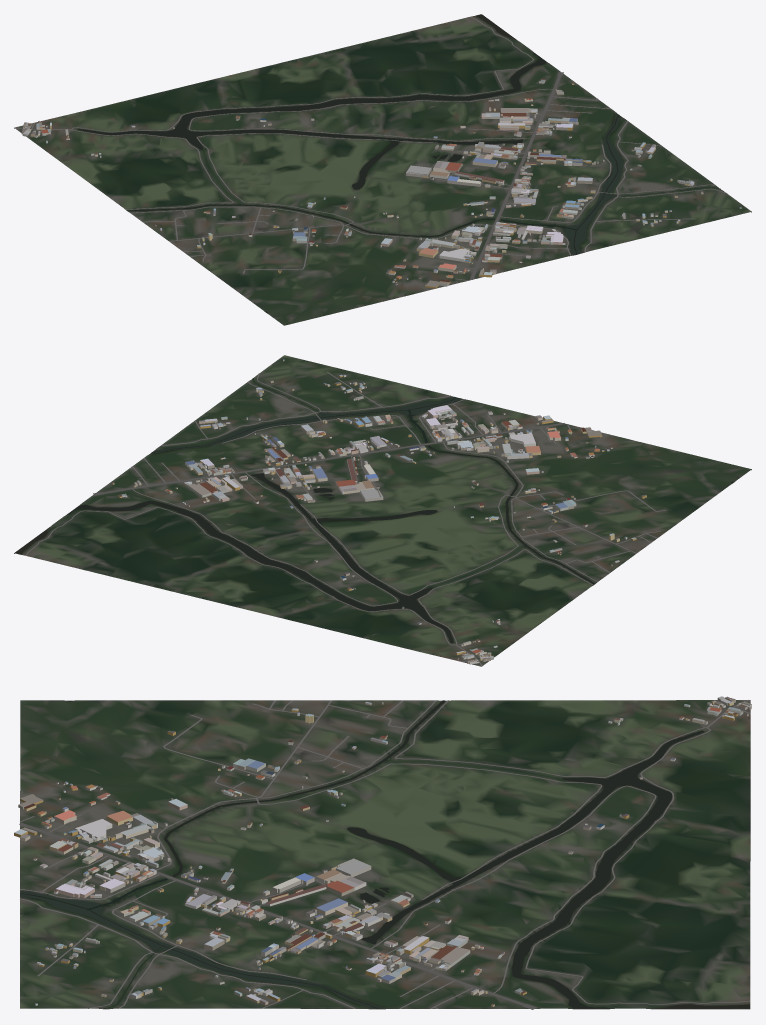
3 renders of one model, top to bottom at view 1: azimuth 30°, elevation 25°; view 2: azimuth 150°, elevation 25°; view 3: azimuth 270°, elevation 25°, orthographic. The views are drawn at different scales.
Parts seen in each view (by area): view 1: ground, buildings, water, roads; view 2: ground, buildings, water, roads; view 3: ground, buildings, water, roads.
Part boxes in pixels (x1,y1,x2,y2): ground: [14, 15, 751, 325]; buildings: [21, 78, 741, 288]; water: [77, 14, 720, 312]; roads: [15, 16, 726, 280]; ground: [14, 355, 751, 666]; buildings: [111, 359, 646, 664]; water: [15, 378, 733, 642]; roads: [25, 372, 665, 666]; ground: [20, 700, 750, 1009]; buildings: [14, 696, 751, 1006]; water: [20, 700, 749, 1008]; roads: [19, 700, 750, 1009].
Size of the model in its own units: 1410 by 18.78 by 1415.
